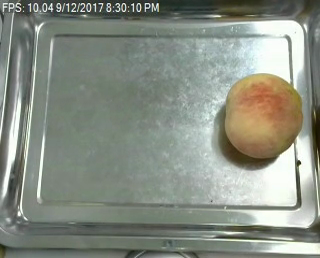Peach: (223, 71, 302, 159)
